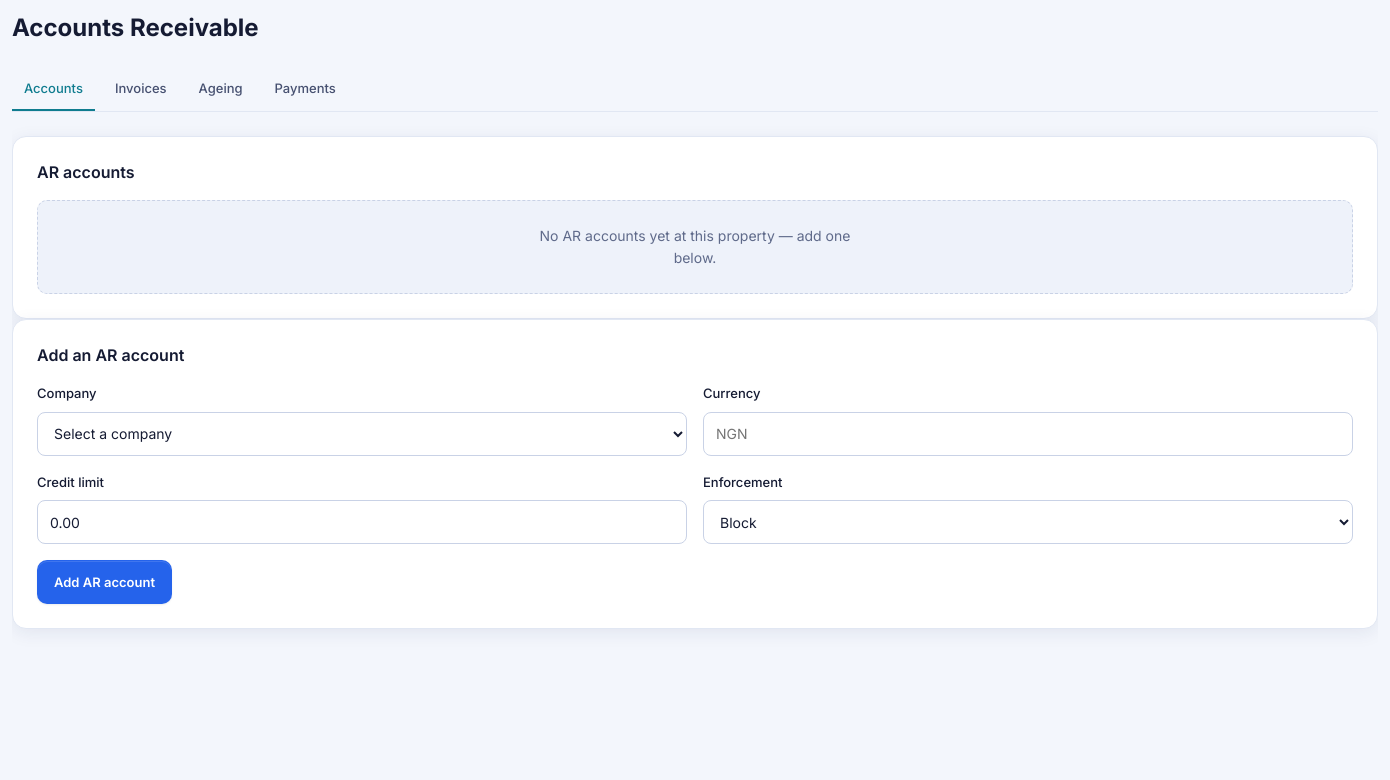
Test: <ARScreen> › switches to the Invoices tab
Click the tab "Invoices" at (141, 89), box [103,67,179,111]
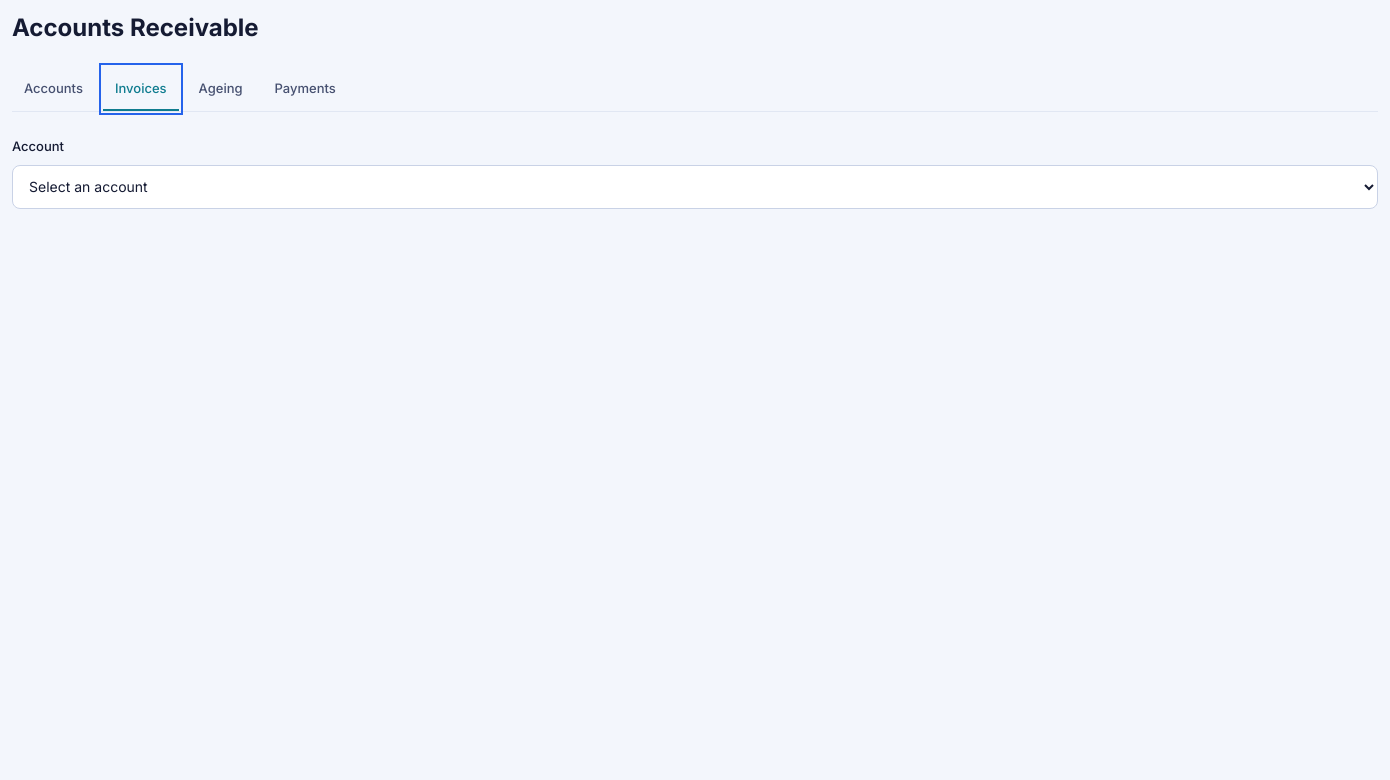
Expected: the dropdown labelled "Account" is shown, [12,165,1378,209]
